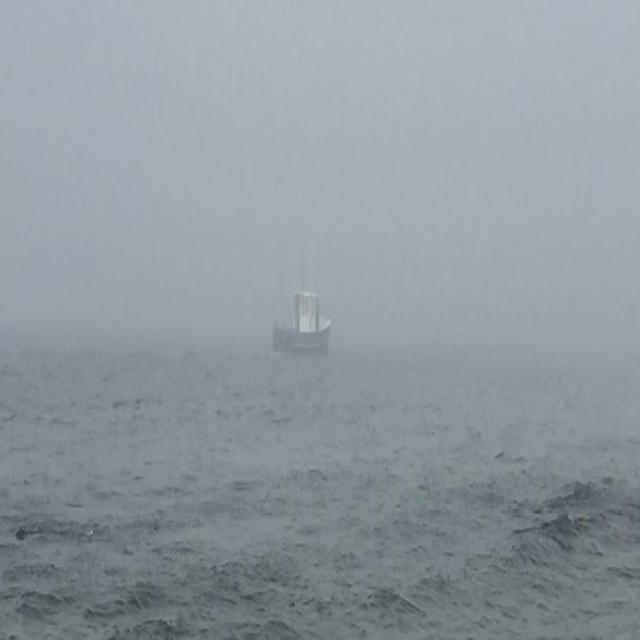fishing boat: (268, 263, 332, 363)
